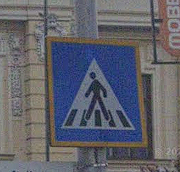trecere_pietoni: (38, 32, 148, 148)
